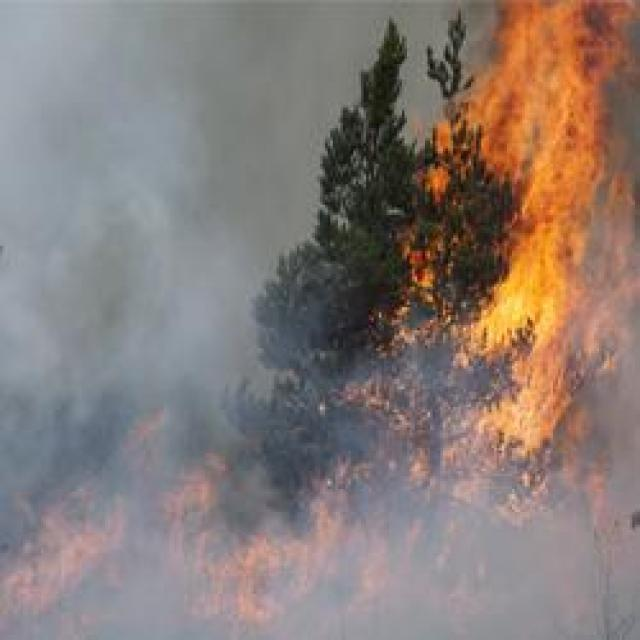Fire: (485, 0, 636, 453)
Smoke: (0, 0, 268, 482), (0, 481, 640, 640)
